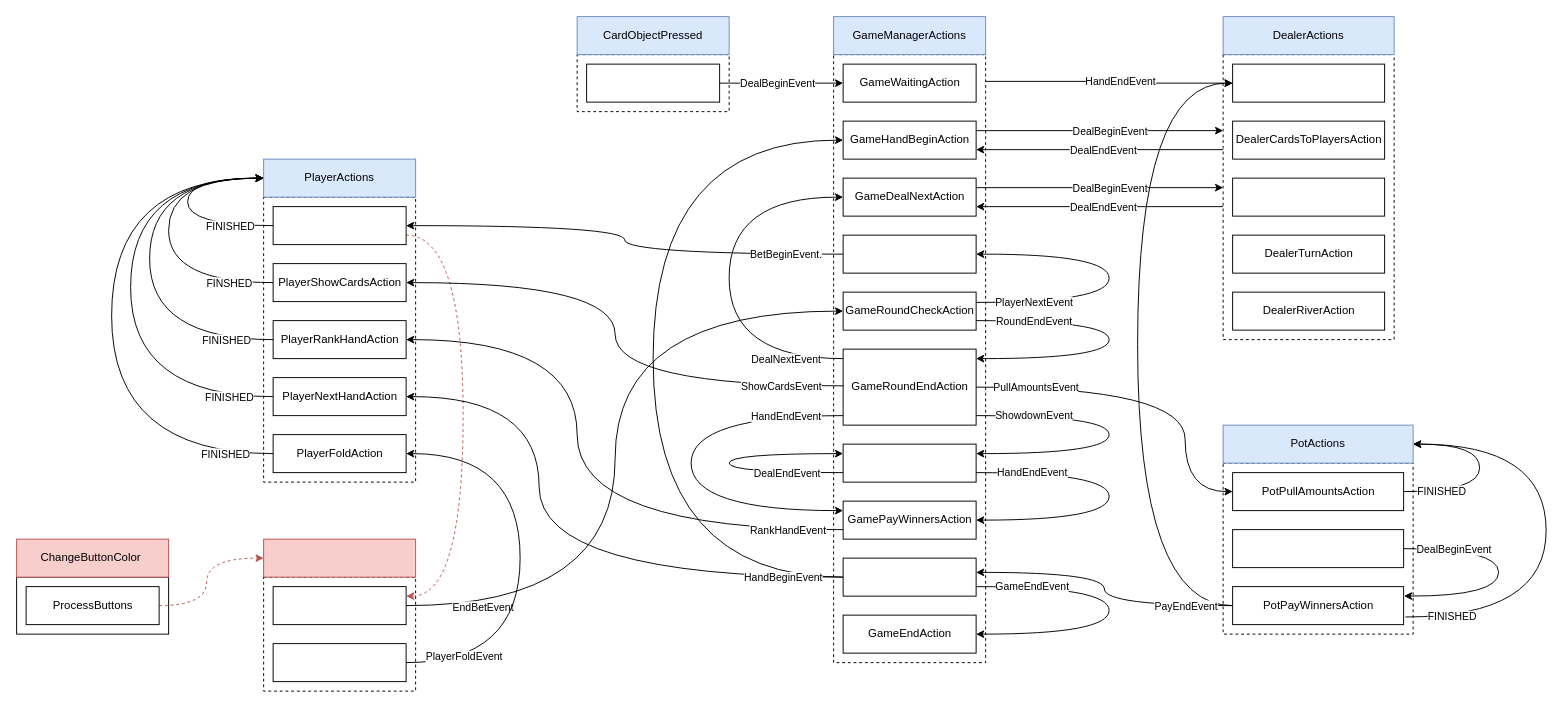
This 1563x708 diagram has some shape labels left out. Each missing label, with the centre of its shape:
DealerFlopAction: pixel 1308 196
DealerlMoveCardsAction: pixel 1308 82
Fold: pixel 339 662
GameBetBeginAction: pixel 909 253
GameShowdownAction: pixel 909 462
GameWaitWinnersAction: pixel 909 576
OnPointerClick: pixel 653 82
PlayerObject: pixel 339 557
PlayerStartBettingAction: pixel 339 225
PotDetermineWinnersAction: pixel 1318 548
StartBetting EndBetting: pixel 339 605
